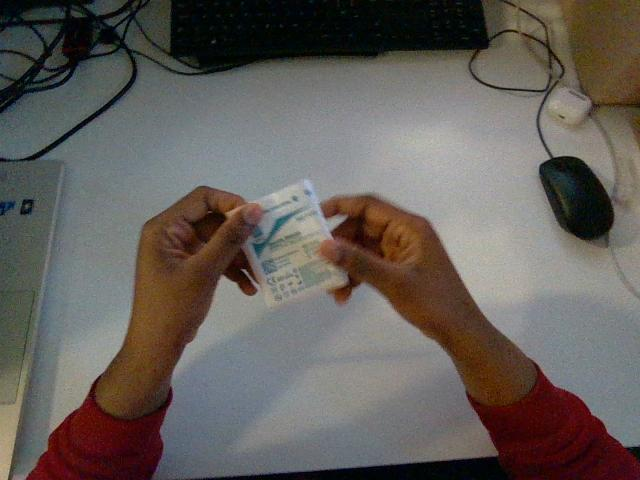gauze: (243, 180, 347, 306)
